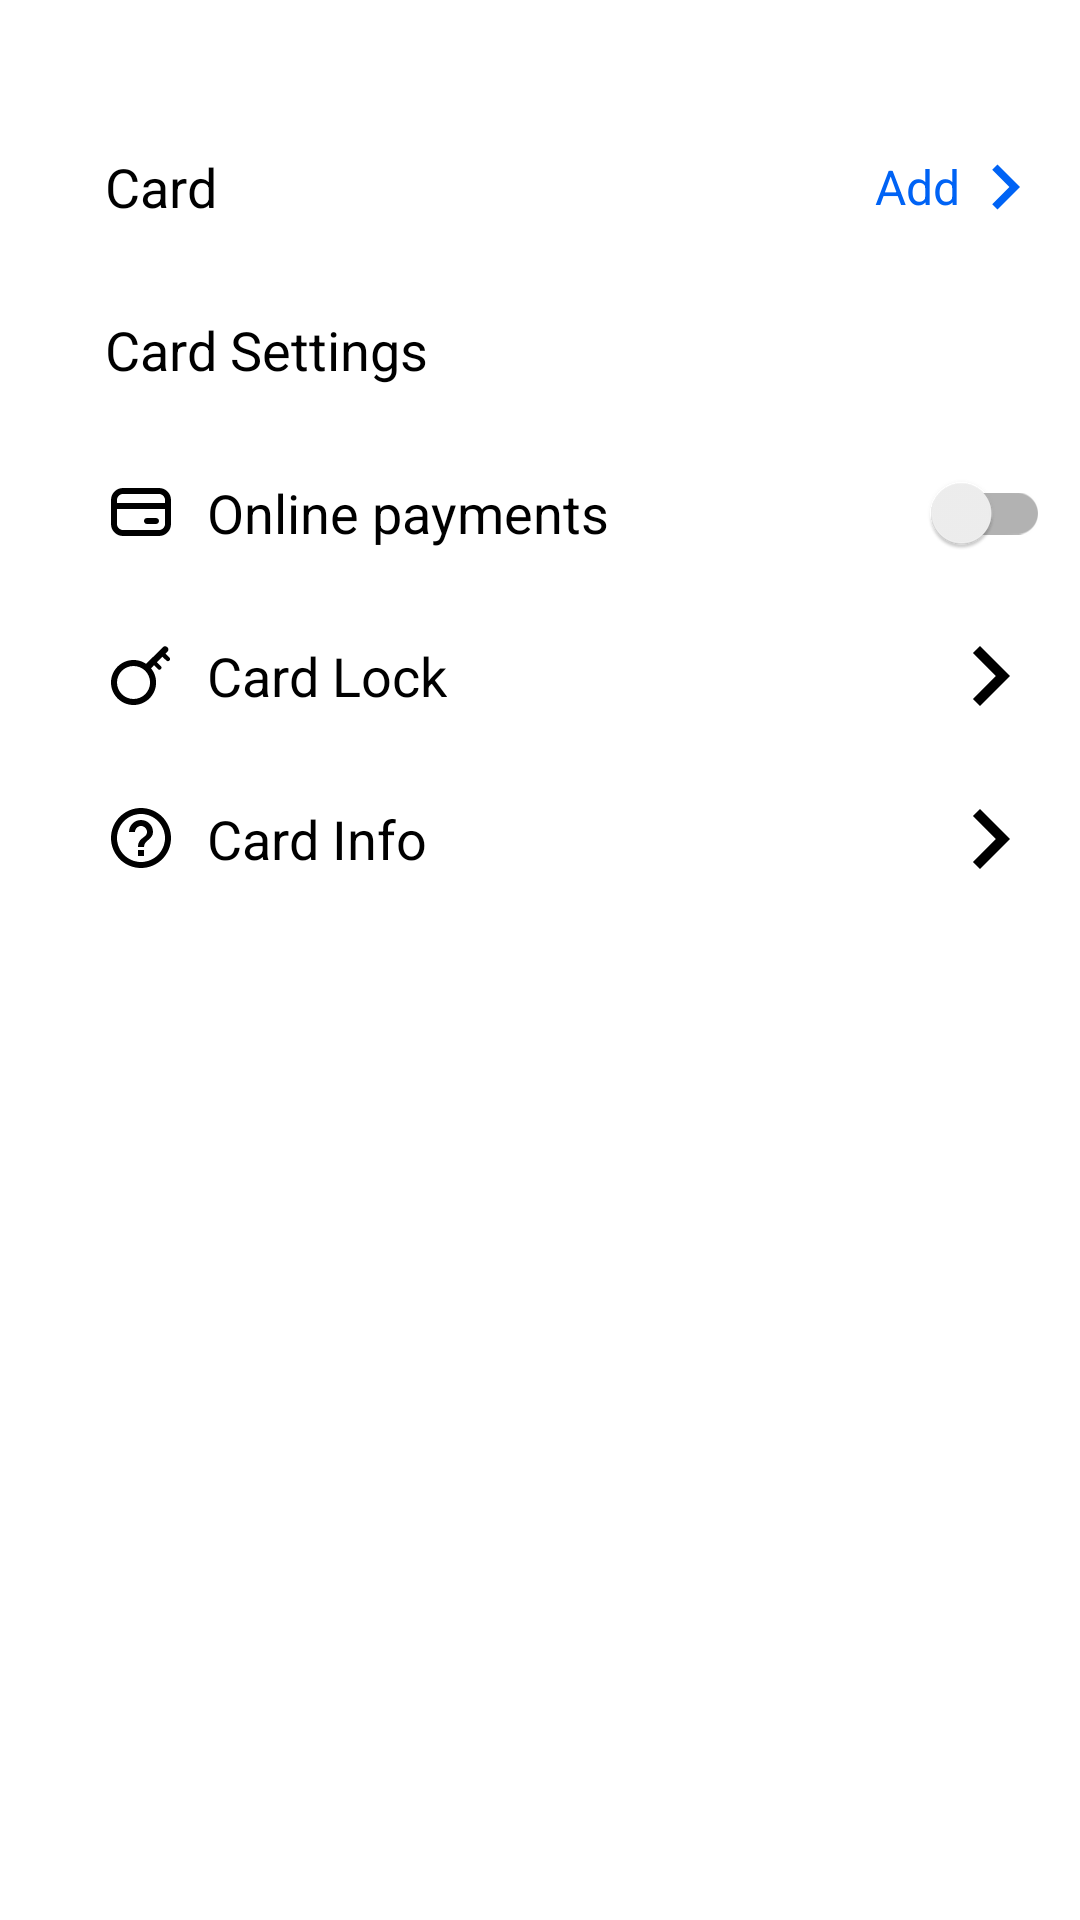

Icons on this 1080x1920 Android screen, each with its box as (x1, y1, x2, y2):
help: (111, 808, 171, 868)
key: (111, 646, 170, 705)
